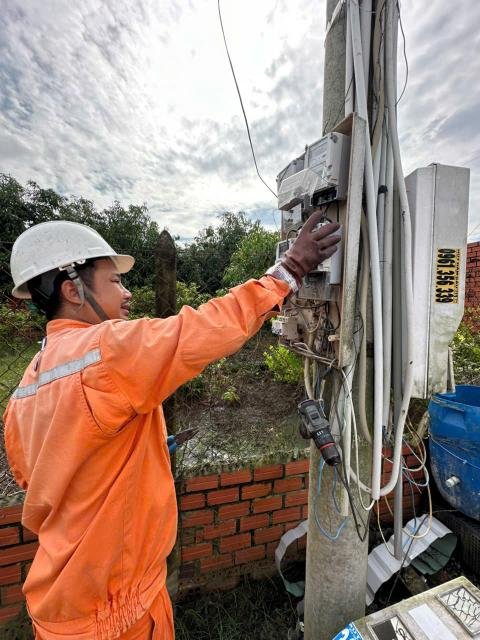gloves: (262, 205, 363, 285)
helmet: (0, 200, 152, 293)
